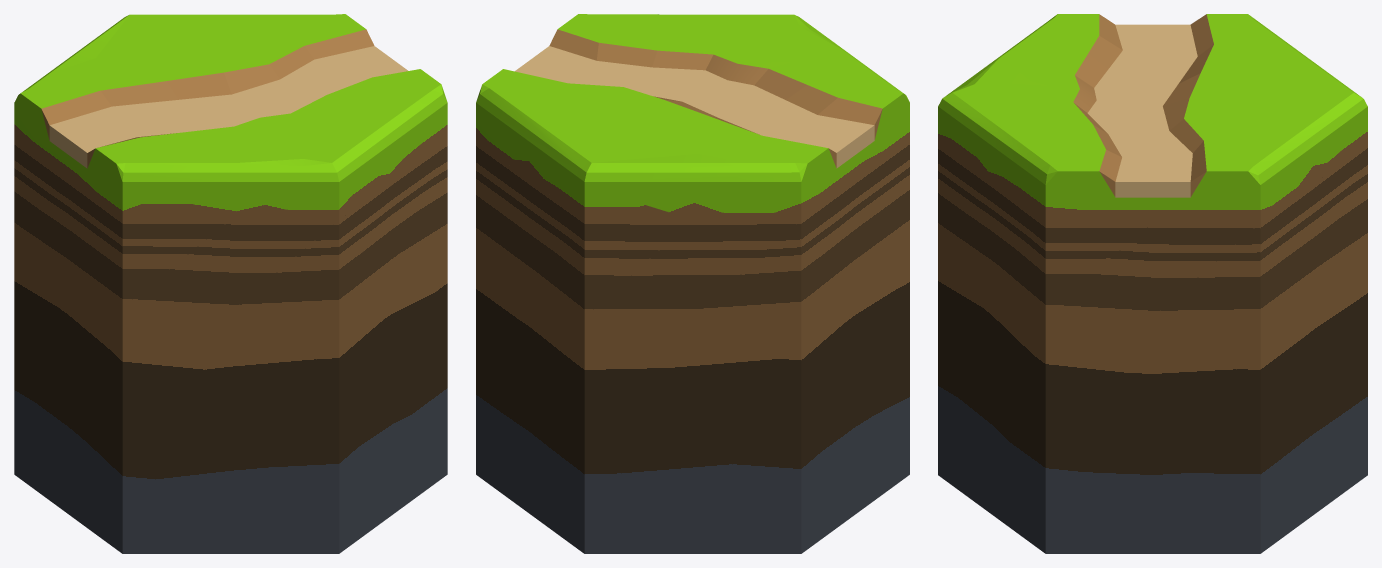
File: HexTilePath_Straight_v2.glb
3 renders of one model, left to right at view 1: azimuth 30°, elevation 25°; view 2: azimuth 150°, elevation 25°; view 3: azimuth 270°, elevation 25°, orthographic.
Visible parts, largest first — view 1: SM_Tile_Hex_Path_01; view 2: SM_Tile_Hex_Path_01; view 3: SM_Tile_Hex_Path_01.
Boxes of the visible parts, x1,y1,x2,y2 form: SM_Tile_Hex_Path_01: (14,14,447,553); SM_Tile_Hex_Path_01: (476,14,909,553); SM_Tile_Hex_Path_01: (938,14,1367,553).
Bounding box in the file's own units: 1.73 × 1.96 × 2.
Materials: 1 (1 with a texture image).
